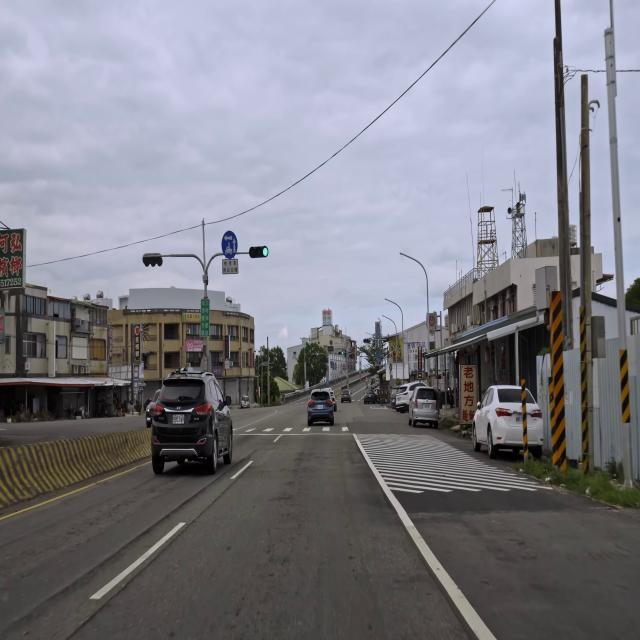green light: (248, 246, 269, 258)
